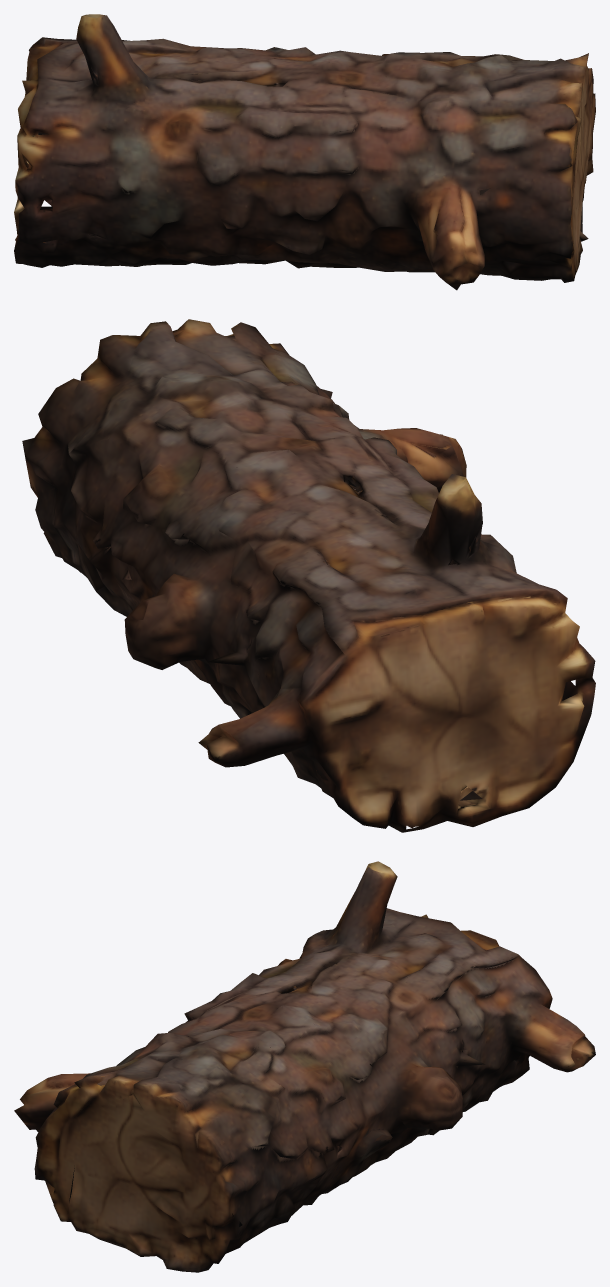
Rendered from fallen_wood.glb.
3 renders of one model, top to bottom at view 1: azimuth 30°, elevation 25°; view 2: azimuth 150°, elevation 25°; view 3: azimuth 270°, elevation 25°, orthographic. The views are drawn at different scales.
Visible parts, largest first — view 1: MV_fallen_wood; view 2: MV_fallen_wood; view 3: MV_fallen_wood.
Boxes of the visible parts, bbox=[...] form: MV_fallen_wood: bbox=[14, 14, 595, 290]; MV_fallen_wood: bbox=[22, 319, 595, 832]; MV_fallen_wood: bbox=[14, 861, 595, 1272].
Size of the model in its own units: 1.44 by 0.65 by 1.47.
Materials: 1 (1 with a texture image).
